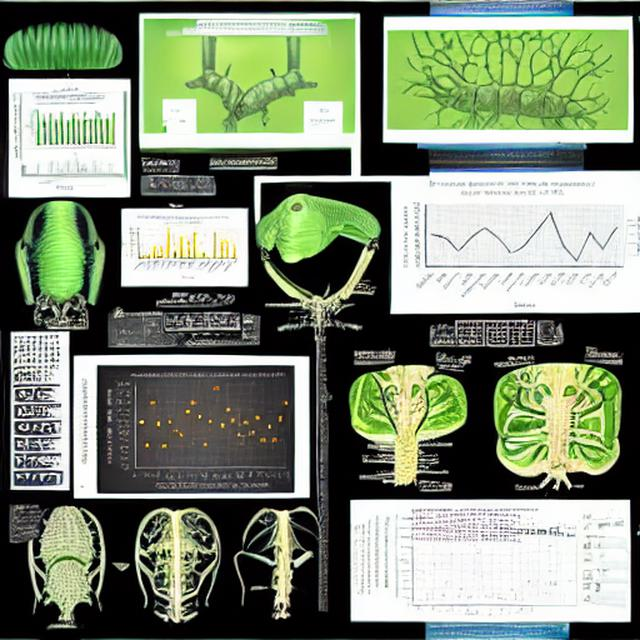Graph: (396, 176, 628, 312), (103, 368, 294, 493), (397, 537, 535, 618), (125, 212, 240, 280), (25, 100, 121, 156)
